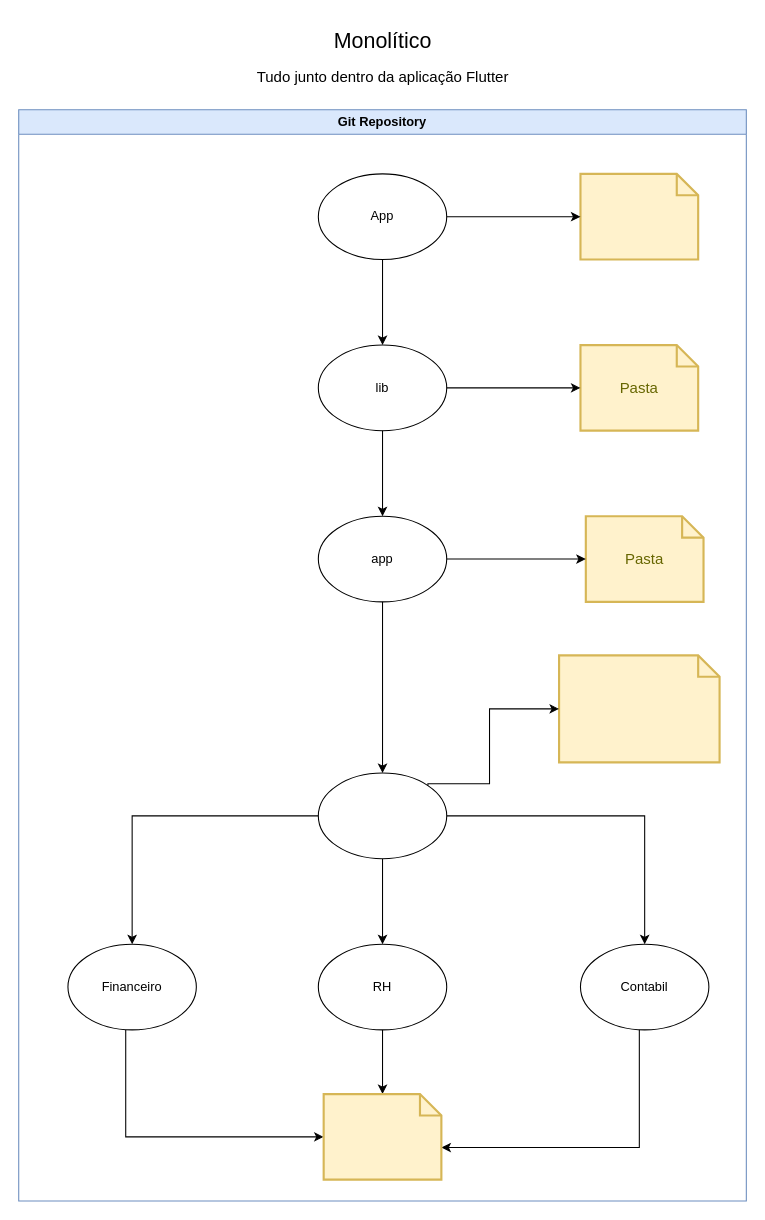
This 765x1220 diagram has some shape labels left out. The shapes that lost their labels are listed below. From the top down, each one's centre as x and y in pixels, then its label:
At point 639,216: "Projeto Flutter".
At point 638,708: "Pasta que contem os módulos que não devem se comunicar entre si".
At point 382,815: "modules".
At point 382,1136: "Módulos".
